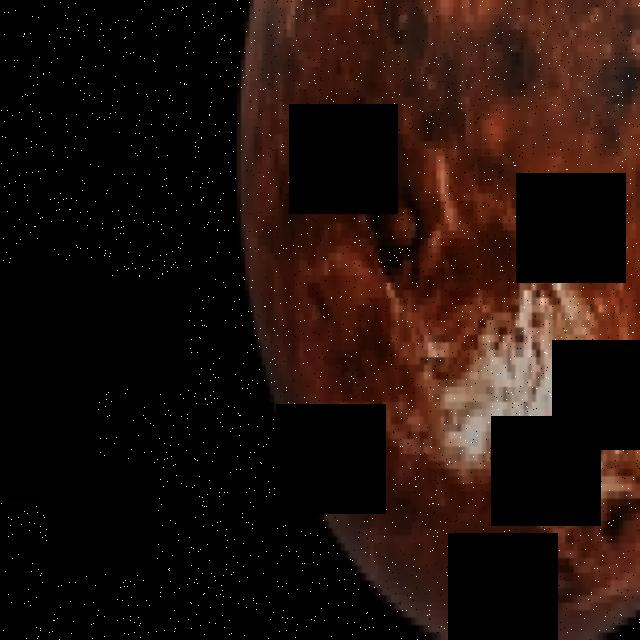Venus: (232, 0, 640, 640)
